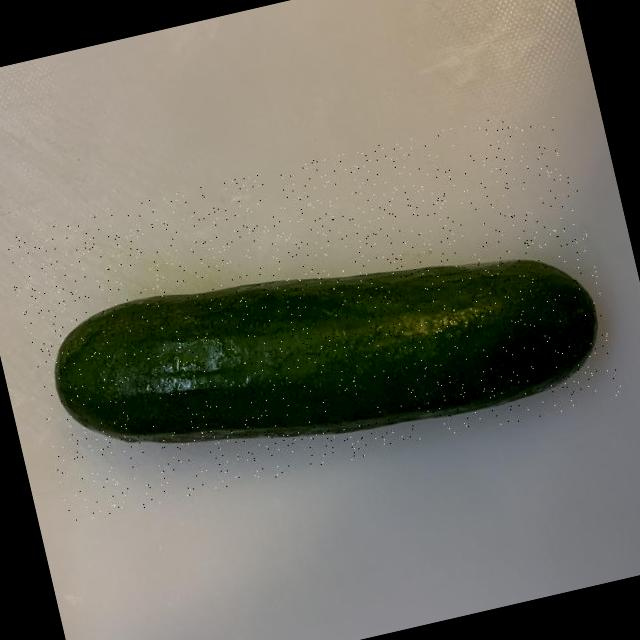Cucumber: (42, 198, 618, 504)
